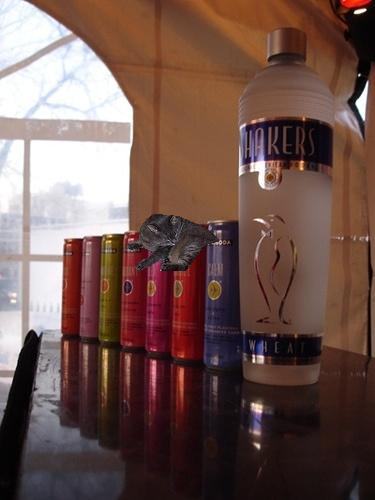tampered: (128, 215, 219, 271)
